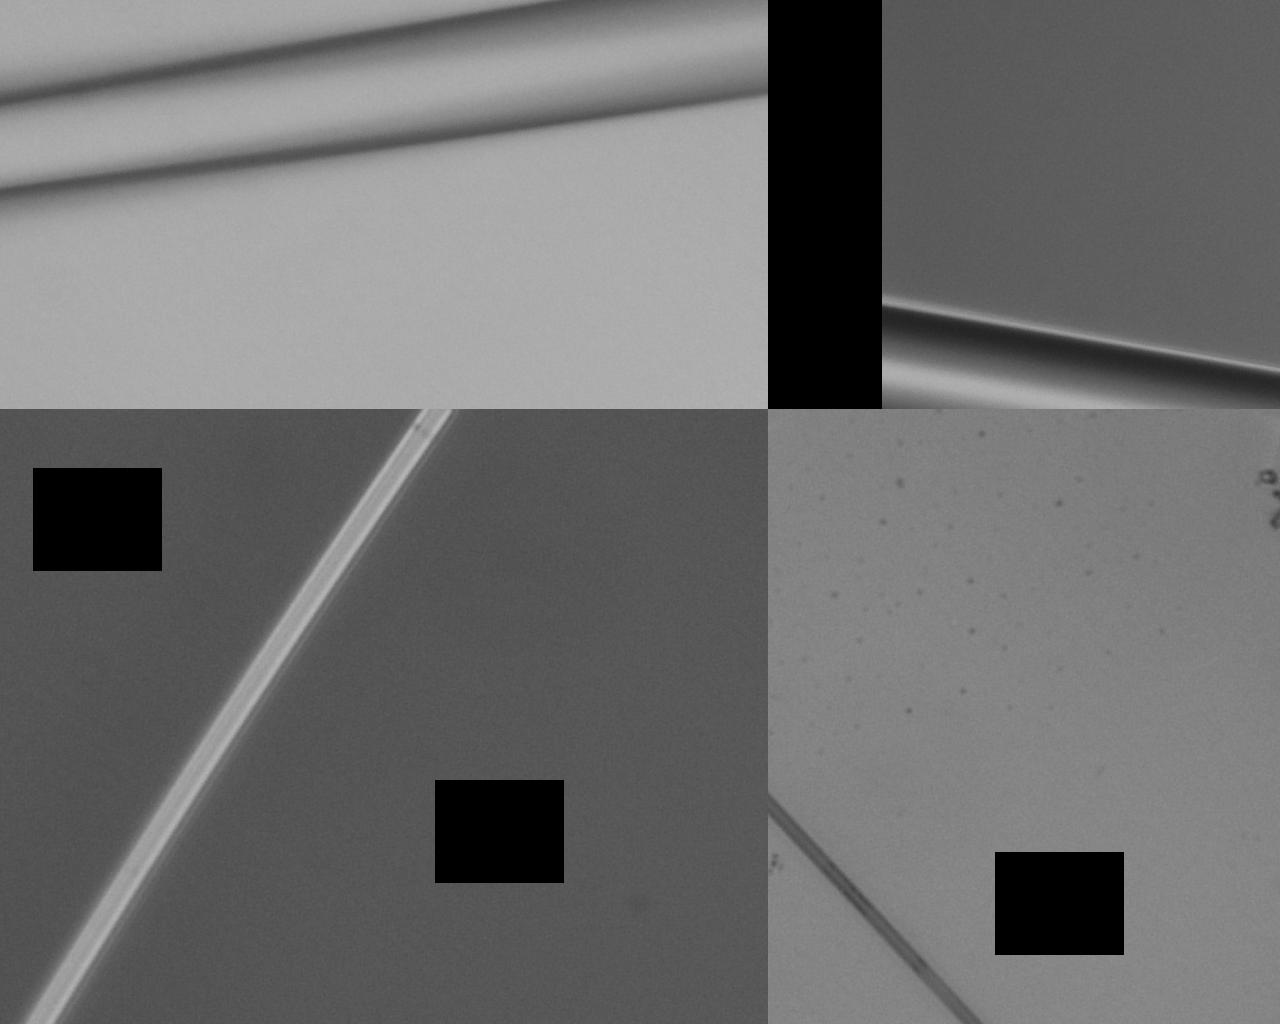fiber: (90, 769, 779, 1024), (779, 0, 1098, 88), (779, 761, 1162, 831)
